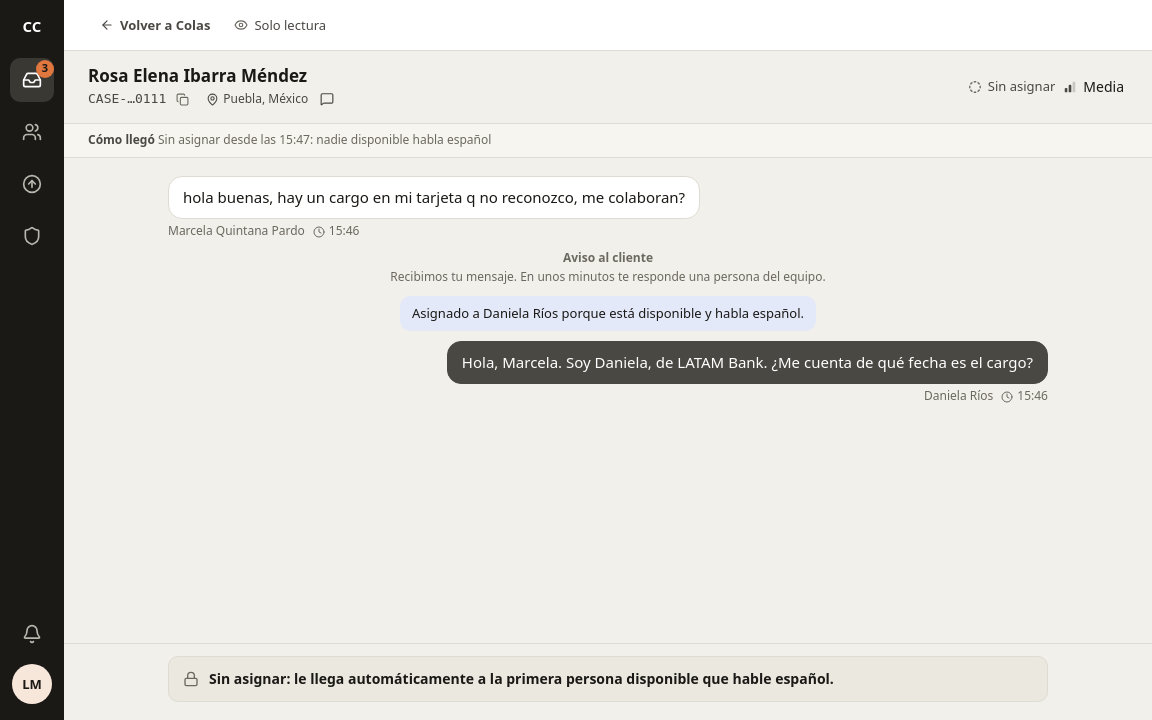
Test: supervisor case view › sets the priority of a queued case from the header (slice 8)
The image size is (1152, 720).
Click the button "Media": coordinates (1094, 87) x1=1057 y1=75 x2=1130 y2=99
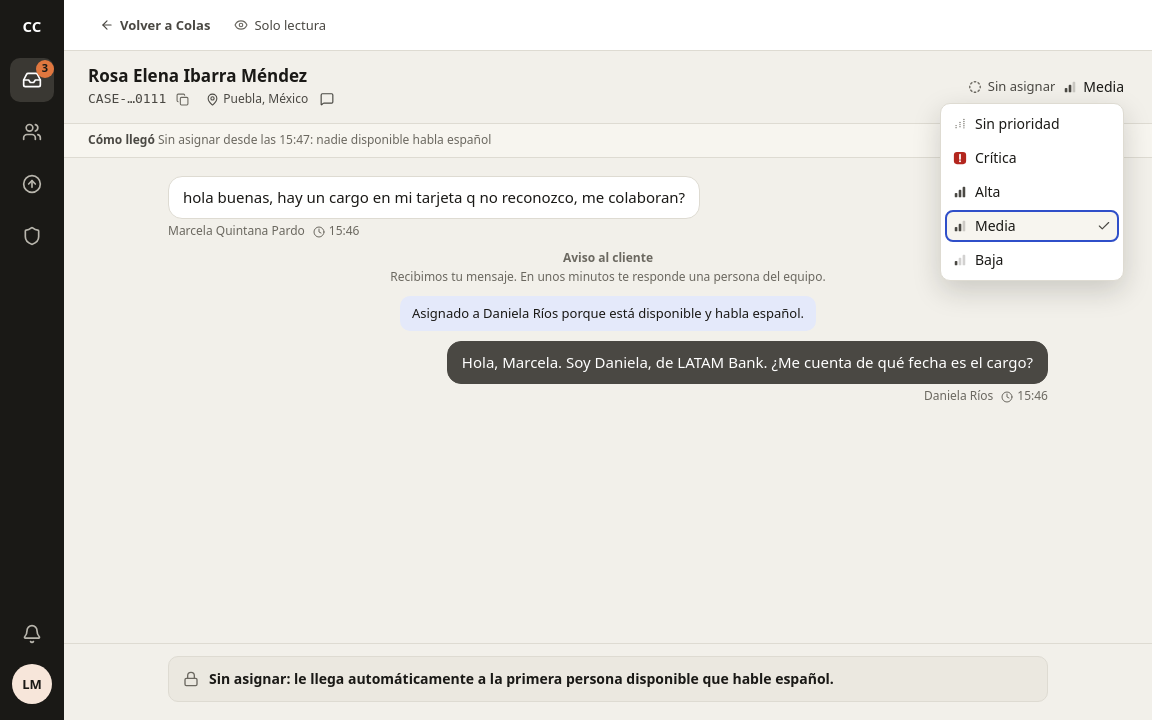
Click the menu item "Crítica": coordinates (1032, 158) x1=945 y1=142 x2=1119 y2=174
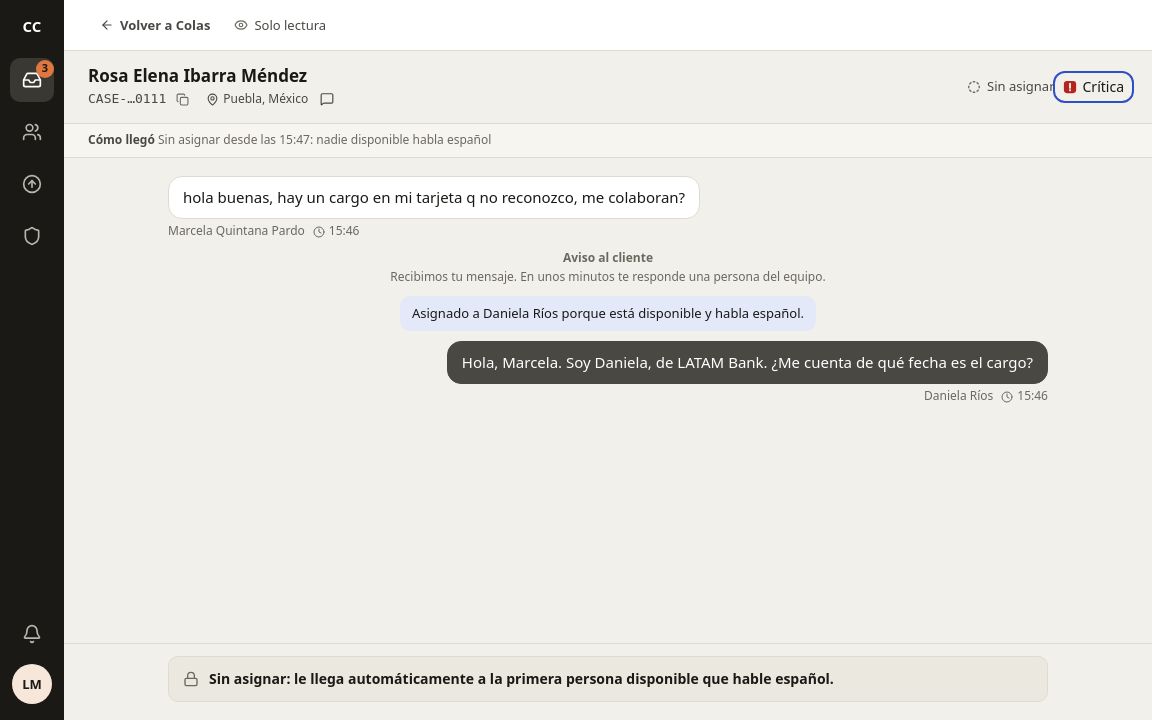
Expected: the button with aria-label "Prioridad: Crítica. Cambiar la prioridad" is shown, x1=1056 y1=75 x2=1130 y2=99
